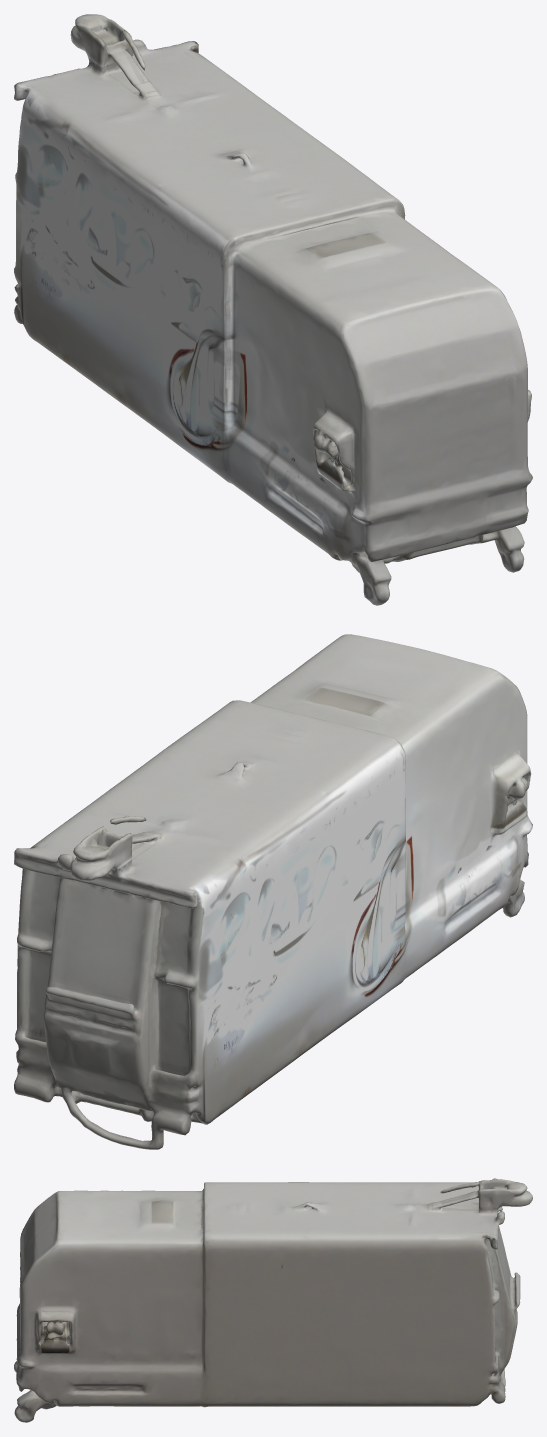
Rendered from compactadora.glb.
3 views of the same model, one above another, from view 1: azimuth 30°, elevation 25°; view 2: azimuth 150°, elevation 25°; view 3: azimuth 270°, elevation 25° (orthographic). The views are drawn at different scales.
Bounding box in the file's own units: 0.6488 × 0.9397 × 2.01.
Materials: 1 (1 with a texture image).
